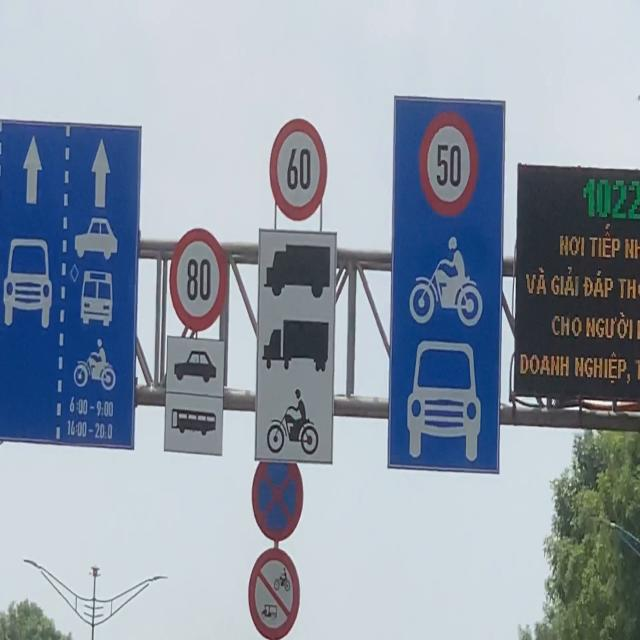Cam con lai: (245, 547, 300, 640)
Cam dung va do: (251, 450, 304, 542)
Toc do toi da: (419, 112, 478, 217), (269, 118, 328, 222), (169, 228, 227, 331)
